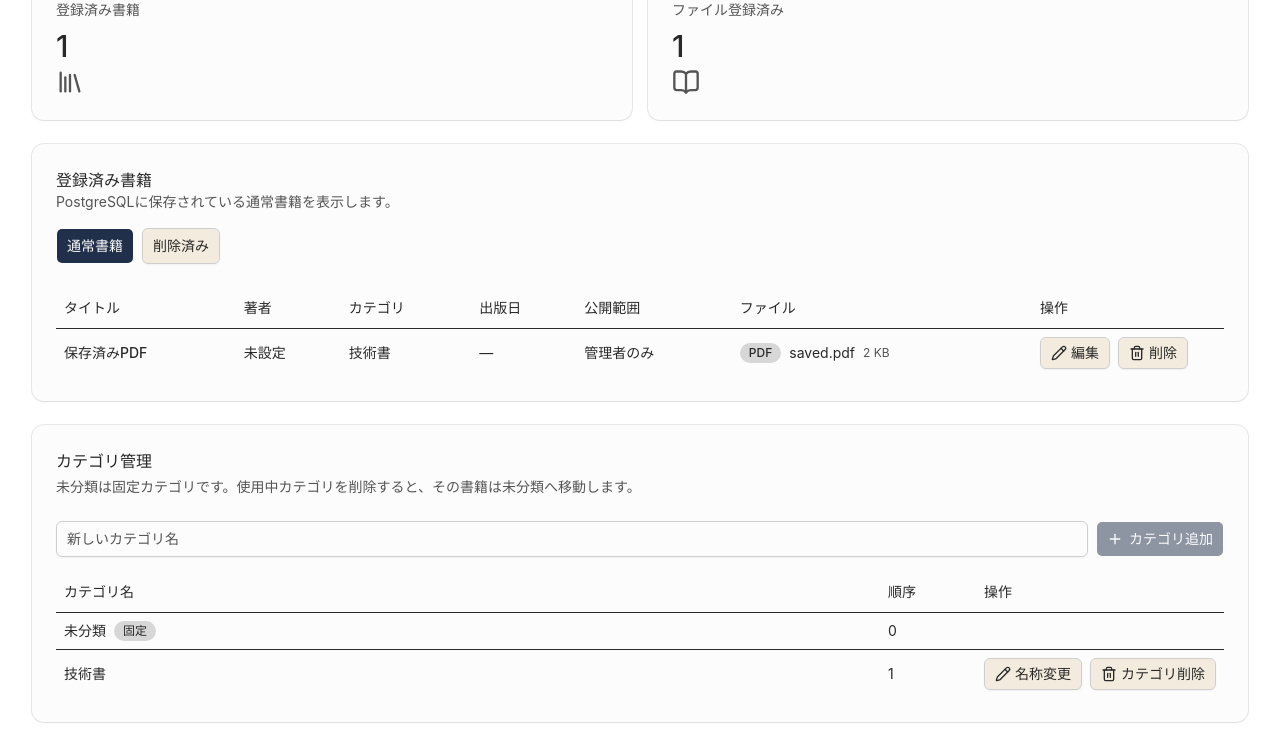
it: Admin persisted book management › カテゴリ削除後にカテゴリ一覧と書籍一覧を再取得する
(page scrolled)
Click the button "カテゴリ削除". click: (1153, 674)
box: x1=1090 y1=658 x2=1216 y2=690
(page scrolled)
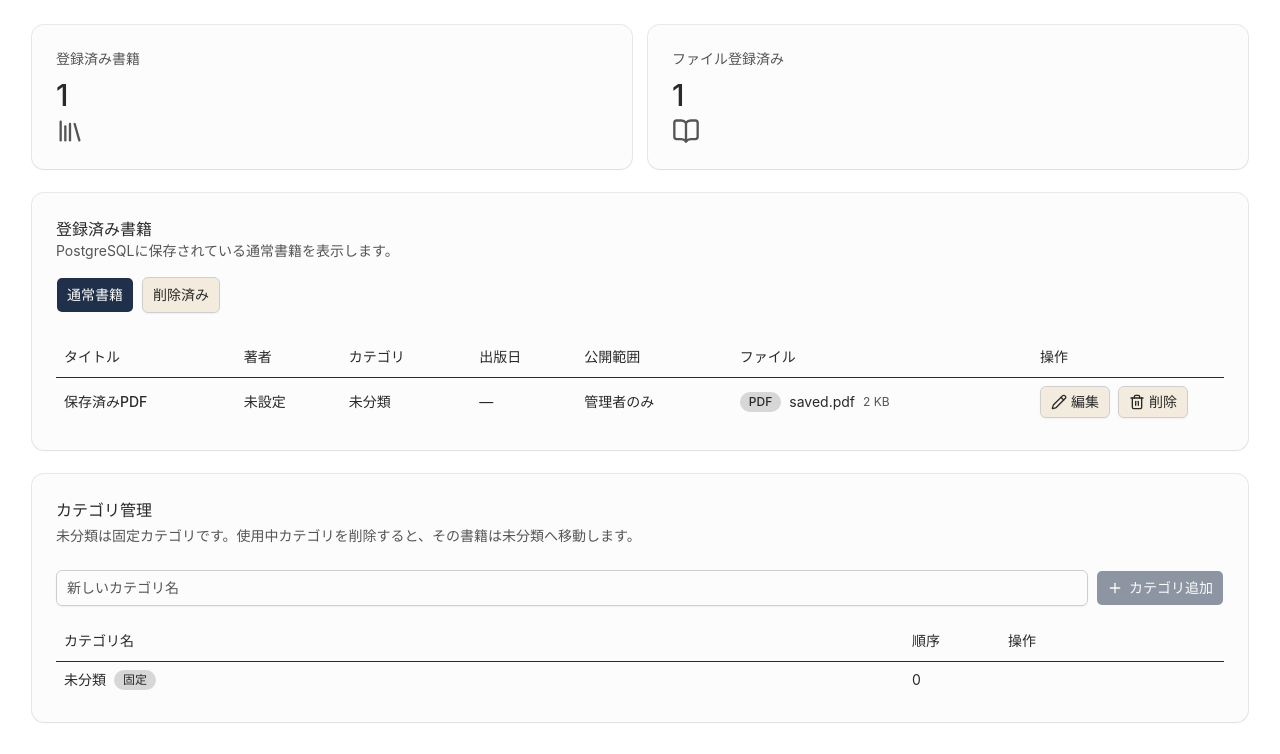
Check: the cell "未分類" is shown, box x1=341 y1=377 x2=471 y2=426
